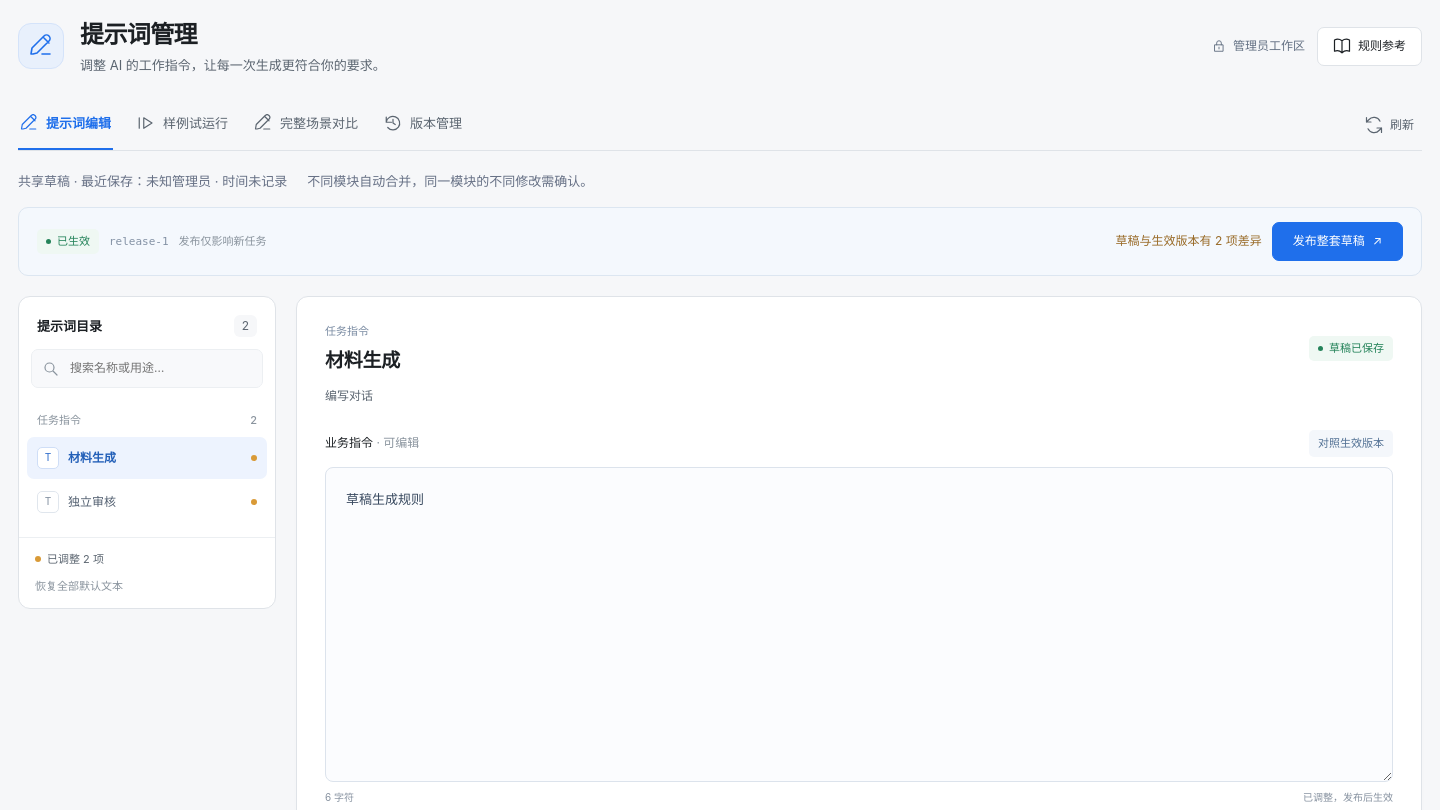
Test: administrator prompt manager › disables unchanged save, enables saved changes for publish, and disables both after publishing
The image size is (1440, 810).
Expected: the button "发布整套草稿 ↗" is enabled, top-left (1272, 222), bottom-right (1403, 261)
Replace the text in the text box named "草稿业务文本" with "临时修改". click: (859, 624)
box: top-left (325, 467), bottom-right (1393, 782)
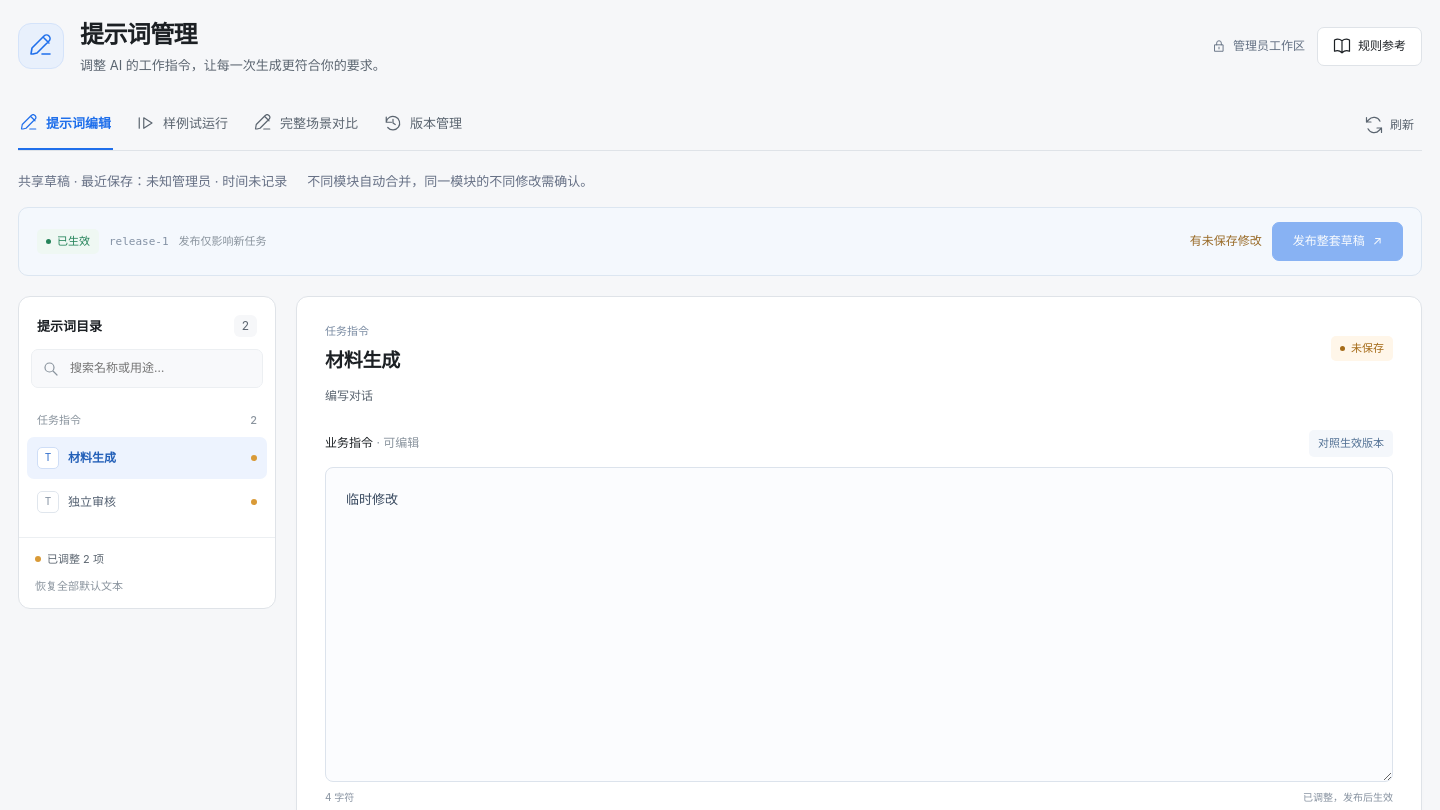
Replace the text in the text box named "草稿业务文本" with "草稿生成规则". click: (859, 624)
box: top-left (325, 467), bottom-right (1393, 782)
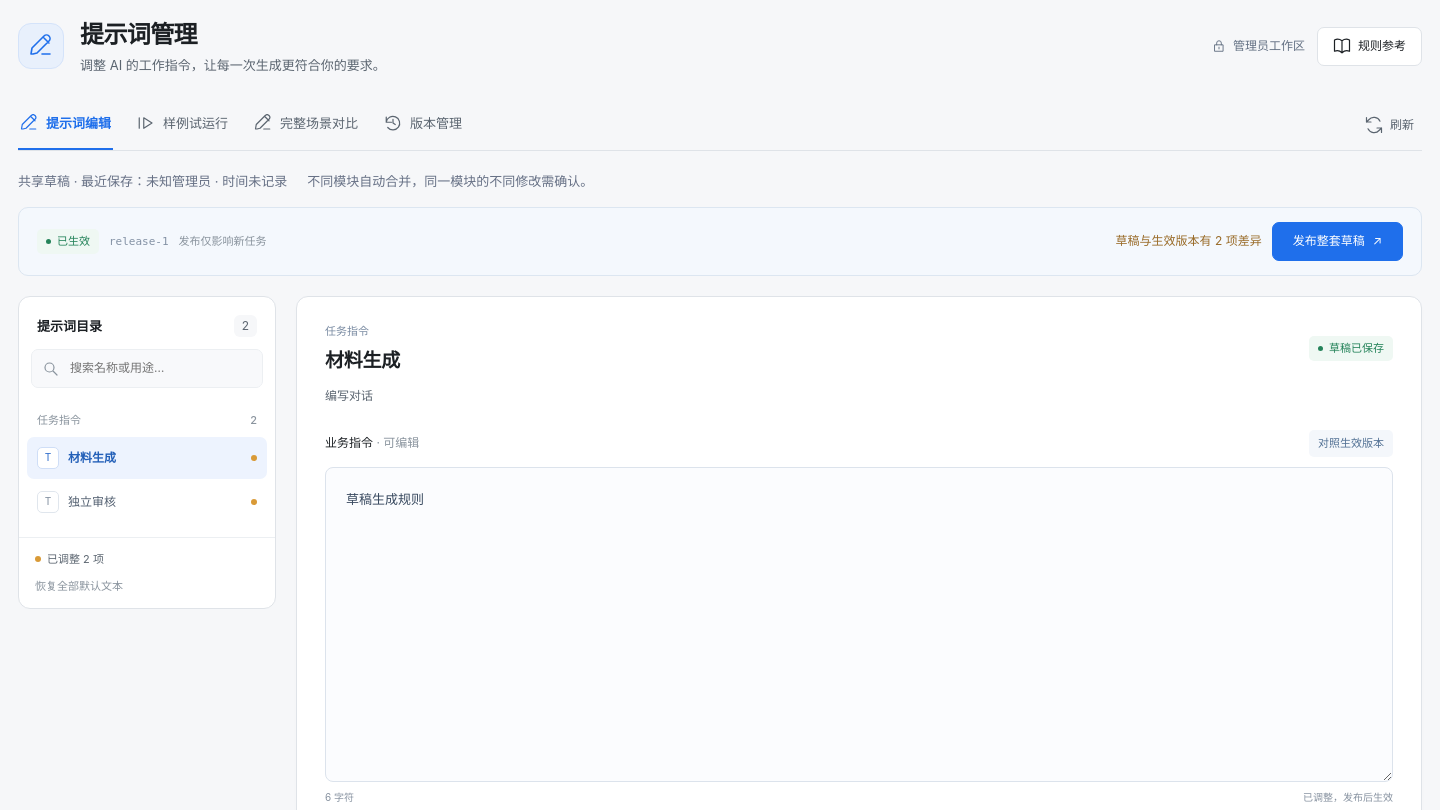
Click the button "发布整套草稿 ↗". click: (1337, 241)
box: top-left (1272, 222), bottom-right (1403, 261)
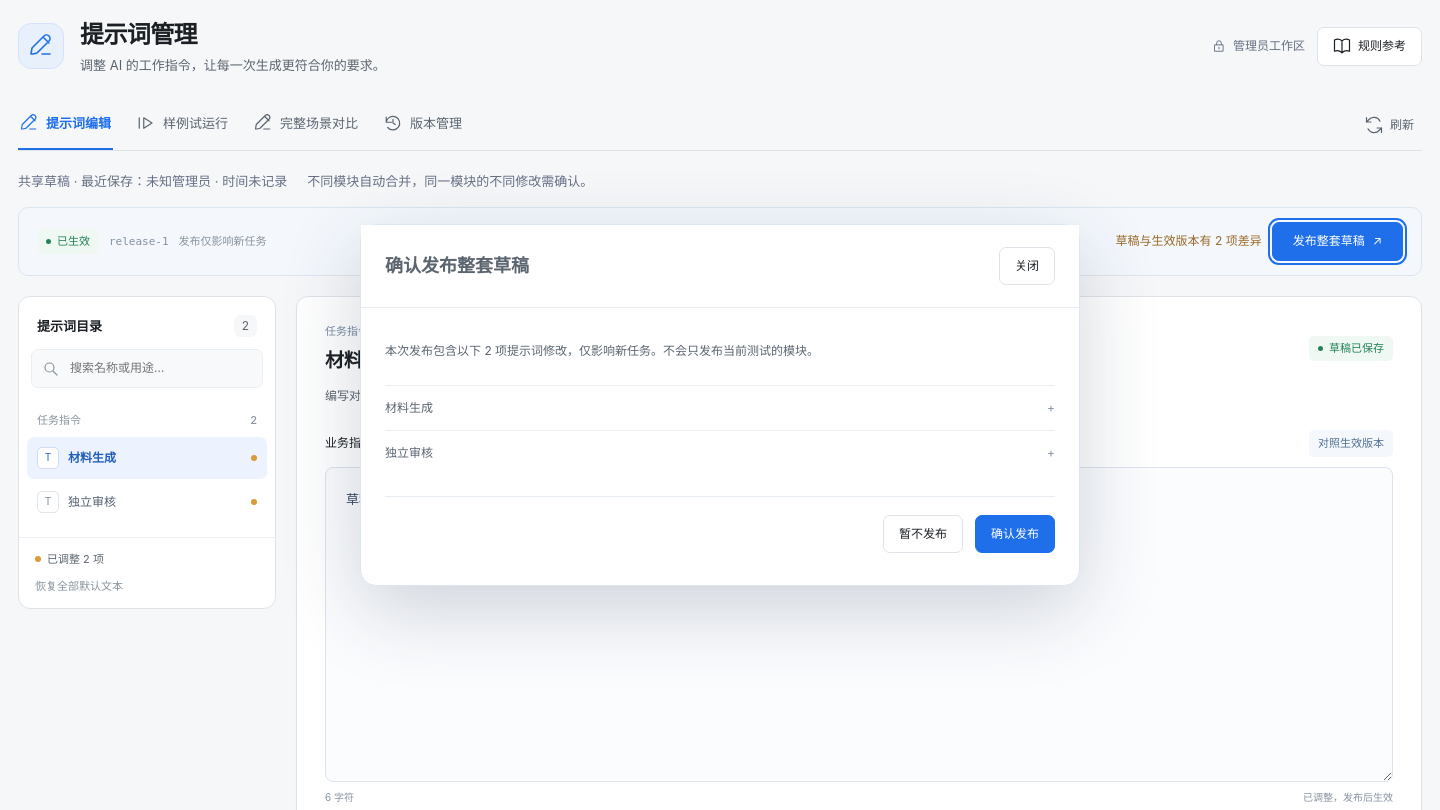
Click the button "确认发布". click: (1015, 534)
box: top-left (975, 515), bottom-right (1055, 554)
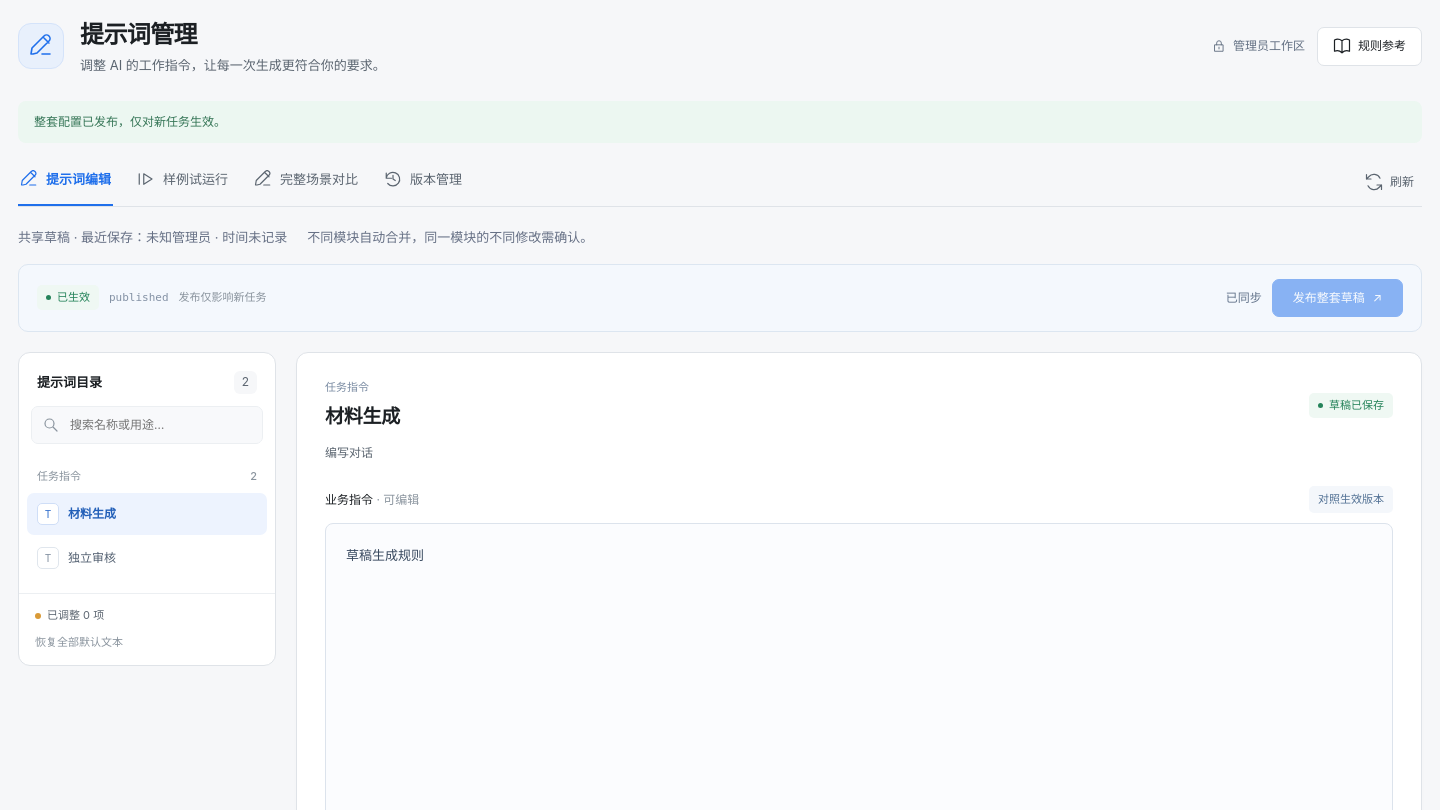
Expected: the text "整套配置已发布，仅对新任务生效。" is shown, top-left (18, 101), bottom-right (1422, 143)
Expected: the button "发布整套草稿 ↗" is disabled, top-left (1272, 279), bottom-right (1403, 317)
Expected: the text "已同步" is shown, top-left (1226, 289), bottom-right (1262, 307)
